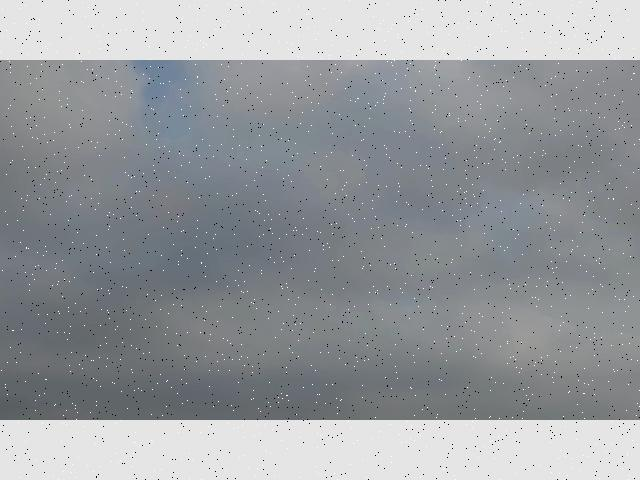Anti-Drone: (292, 253, 294, 255)
